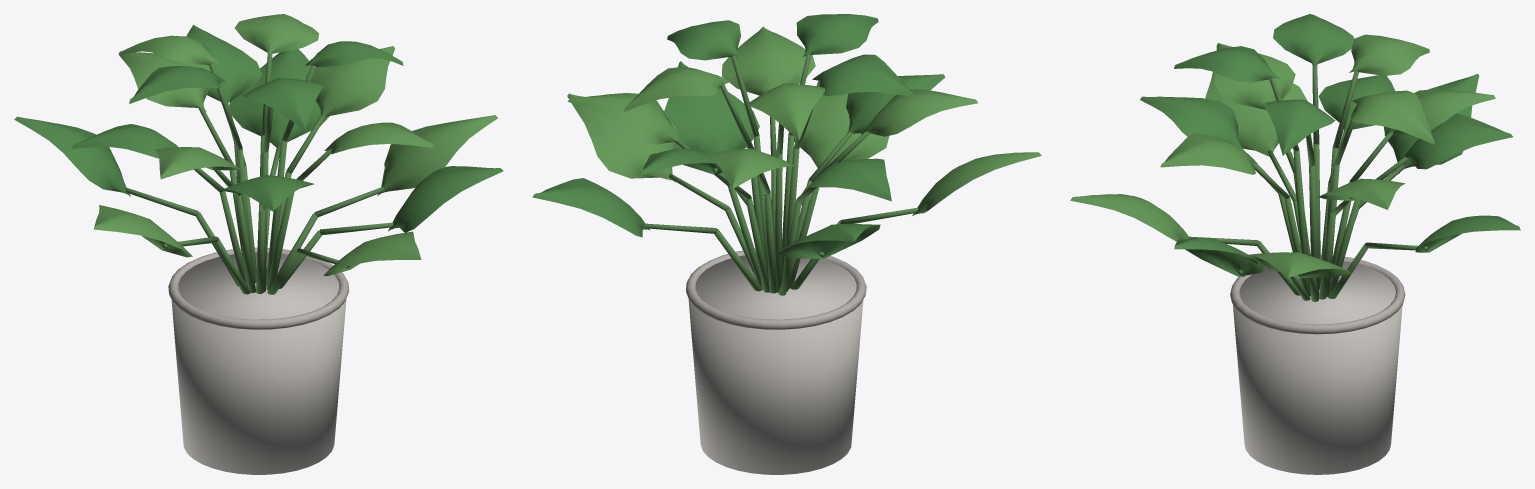
File: prop_concrete_plant.glb
The picture shows the model from 3 angles, left to right: view 1: azimuth 30°, elevation 25°; view 2: azimuth 150°, elevation 25°; view 3: azimuth 270°, elevation 25°; orthographic projection. The views are drawn at different scales.
Visible parts, largest first — view 1: Cone, Leaf_0, Leaf_8, Leaf_3, Torus, Leaf_1, Leaf_5, Leaf_11, Leaf_16, Leaf_15, Leaf_6, Leaf_2 (+13 smaller); view 2: Cone, Leaf_5, Leaf_10, Leaf_0, Leaf_2, Torus, Leaf_8, Leaf_3, Leaf_17, Leaf_15, Leaf_12, Leaf_14 (+15 smaller); view 3: Cone, Leaf_7, Leaf_11, Leaf_17, Torus, Leaf_16, Leaf_14, Leaf_10, Leaf_4, Leaf_15, Leaf_13, Leaf_12 (+15 smaller).
Part boxes in pixels (x1,y1,x2,y2): Cone: (171, 252, 346, 474); Leaf_0: (377, 115, 497, 195); Leaf_8: (306, 46, 394, 116); Leaf_3: (229, 49, 329, 147); Torus: (168, 247, 348, 329); Leaf_1: (14, 116, 130, 196); Leaf_5: (388, 166, 503, 232); Leaf_11: (187, 24, 262, 103); Leaf_16: (235, 14, 318, 55); Leaf_15: (242, 78, 323, 130); Leaf_6: (118, 51, 210, 111); Leaf_2: (323, 231, 421, 275); Cone: (688, 255, 863, 474); Leaf_5: (664, 61, 759, 153); Leaf_10: (721, 26, 815, 95); Leaf_0: (567, 93, 679, 182); Leaf_2: (794, 93, 889, 168); Torus: (686, 249, 866, 329); Leaf_8: (568, 93, 681, 144); Leaf_3: (532, 178, 650, 237); Leaf_17: (812, 54, 914, 97); Leaf_15: (796, 14, 878, 57); Leaf_12: (861, 89, 977, 136); Leaf_14: (748, 83, 824, 139); Cone: (1233, 261, 1402, 474); Leaf_7: (1140, 96, 1243, 150); Leaf_11: (1401, 113, 1512, 169); Leaf_17: (1273, 14, 1353, 66); Torus: (1230, 255, 1405, 334); Leaf_16: (1351, 90, 1434, 144); Leaf_14: (1349, 34, 1429, 75); Leaf_10: (1160, 133, 1257, 174); Leaf_4: (1205, 72, 1307, 156); Leaf_15: (1174, 46, 1280, 82); Leaf_13: (1264, 99, 1335, 155); Leaf_12: (1214, 43, 1295, 109).
Bounding box in the file's own units: 1.06 × 0.9126 × 0.9715.
